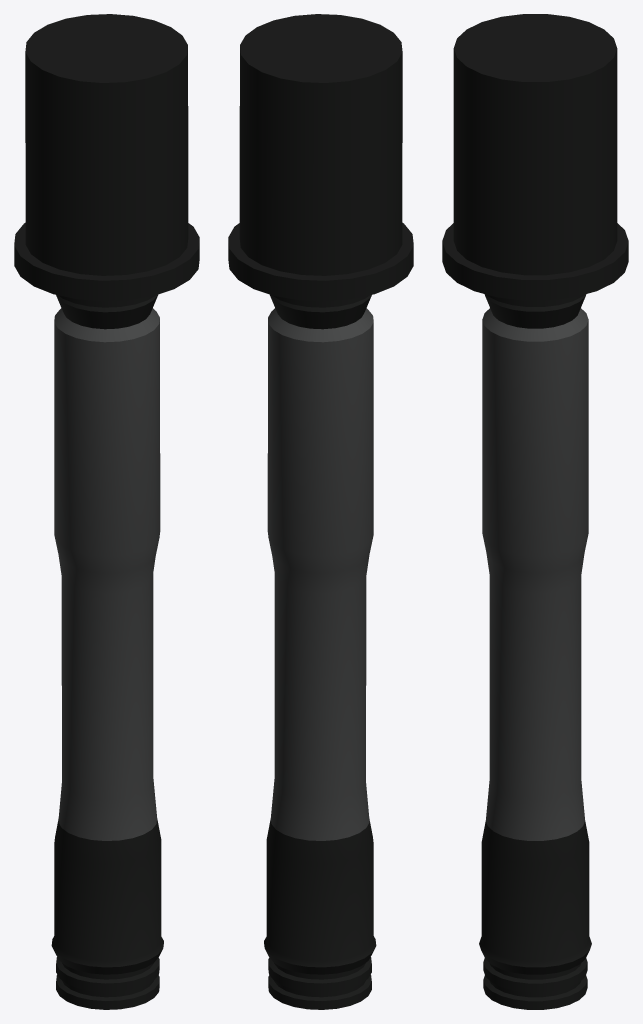
The model's file is M24_Stick_Grenade_Mesh.fbx.
3 renders of one model, left to right at view 1: azimuth 30°, elevation 25°; view 2: azimuth 150°, elevation 25°; view 3: azimuth 270°, elevation 25°, orthographic.
Parts seen in each view (by area): view 1: M24_Stick_Grenade; view 2: M24_Stick_Grenade; view 3: M24_Stick_Grenade.
Boxes of the visible parts, box(x1,y1,x2,y2) form: M24_Stick_Grenade: box(14, 14, 199, 1009); M24_Stick_Grenade: box(228, 14, 413, 1009); M24_Stick_Grenade: box(442, 14, 628, 1009).
Size of the model in its own units: 0.0397 by 0.2232 by 0.0401.
